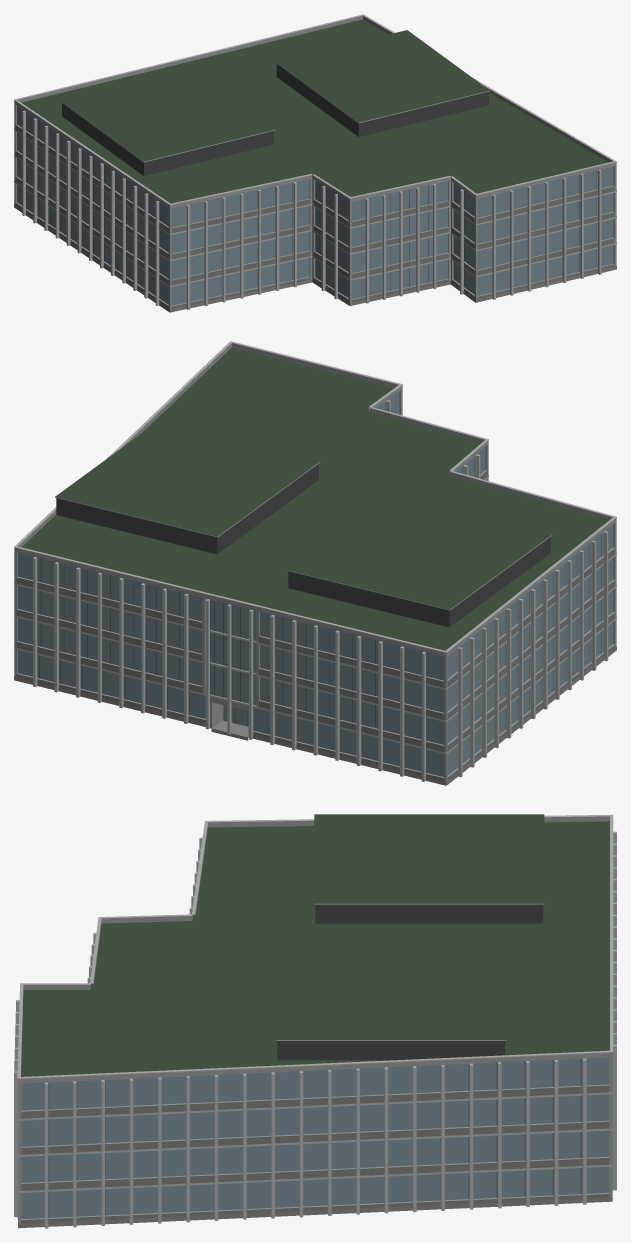
The picture shows the model from 3 angles, top to bottom: view 1: azimuth 30°, elevation 25°; view 2: azimuth 150°, elevation 25°; view 3: azimuth 270°, elevation 25°; orthographic projection. The views are drawn at different scales.
Parts seen in each view (by area): view 1: researchCoop__roof, researchCoop__glass, researchCoop__trim, researchCoop__spandrel, researchCoop__wall, researchCoop__roofMetal, researchCoop__parapet, researchCoop__base, researchCoop__frame; view 2: researchCoop__roof, researchCoop__glass, researchCoop__trim, researchCoop__spandrel, researchCoop__roofMetal, researchCoop__wall, researchCoop__parapet, researchCoop__frame, researchCoop__base; view 3: researchCoop__roof, researchCoop__glass, researchCoop__trim, researchCoop__spandrel, researchCoop__roofMetal, researchCoop__wall, researchCoop__parapet, researchCoop__base, researchCoop__frame.
Boxes of the visible parts, x1,y1,x2,y2 form: researchCoop__roof: (21, 19, 608, 279); researchCoop__glass: (17, 106, 613, 305); researchCoop__trim: (14, 14, 616, 309); researchCoop__spandrel: (15, 125, 614, 308); researchCoop__wall: (14, 103, 616, 311); researchCoop__roofMetal: (62, 64, 488, 175); researchCoop__parapet: (14, 15, 616, 208); researchCoop__base: (14, 204, 616, 312); researchCoop__frame: (27, 113, 596, 294); researchCoop__roof: (22, 347, 608, 650); researchCoop__glass: (18, 392, 613, 776); researchCoop__trim: (14, 341, 616, 781); researchCoop__spandrel: (17, 471, 614, 781); researchCoop__roofMetal: (56, 463, 550, 627); researchCoop__wall: (14, 389, 616, 785); researchCoop__parapet: (14, 343, 616, 656); researchCoop__frame: (39, 402, 601, 739); researchCoop__base: (14, 646, 616, 785); researchCoop__roof: (21, 814, 609, 1076); researchCoop__glass: (21, 1057, 609, 1218); researchCoop__trim: (14, 814, 616, 1228); researchCoop__spandrel: (21, 1085, 609, 1223); researchCoop__roofMetal: (277, 904, 543, 1060); researchCoop__wall: (18, 1057, 612, 1223); researchCoop__parapet: (17, 816, 612, 1083); researchCoop__base: (17, 1197, 612, 1228); researchCoop__frame: (48, 1058, 581, 1217).
Bounding box in the file's own units: 66.1 × 19.6 × 63.5.
